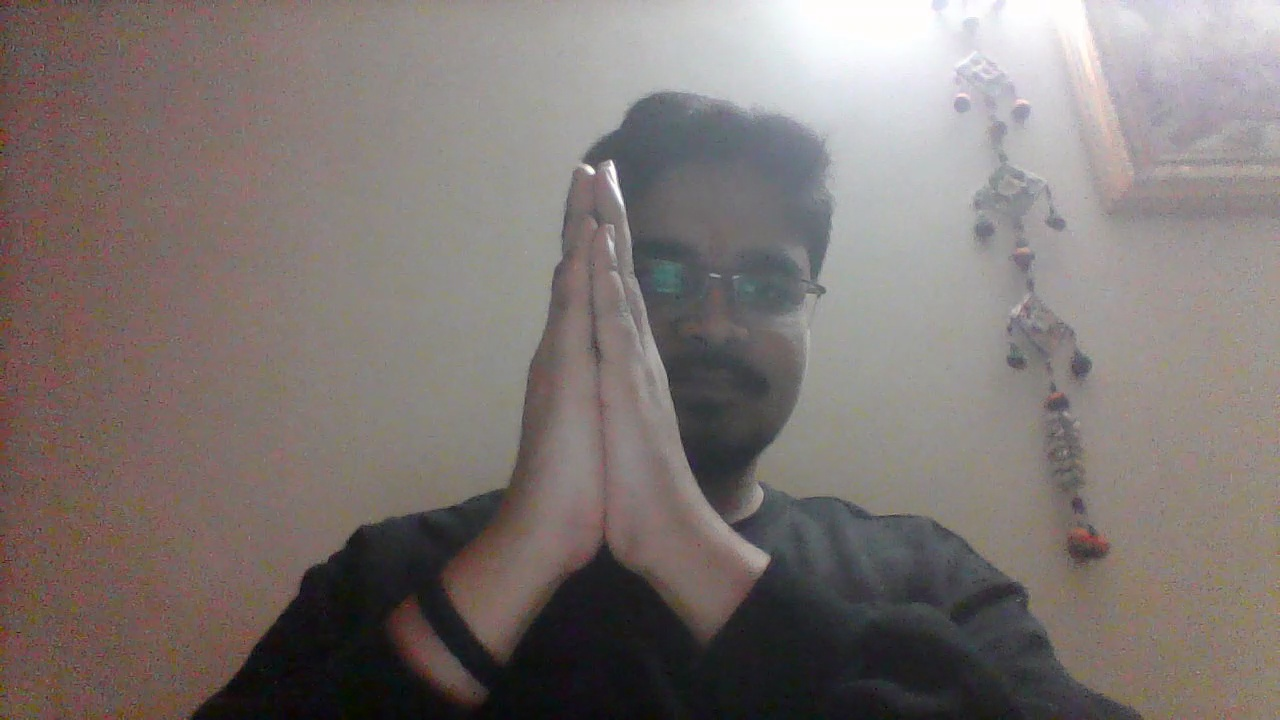Namaste: (503, 156, 684, 593)
